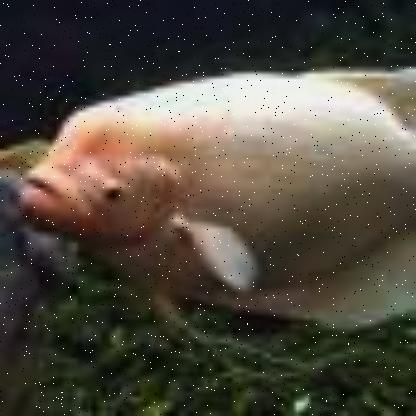gurame: (29, 72, 415, 320)
